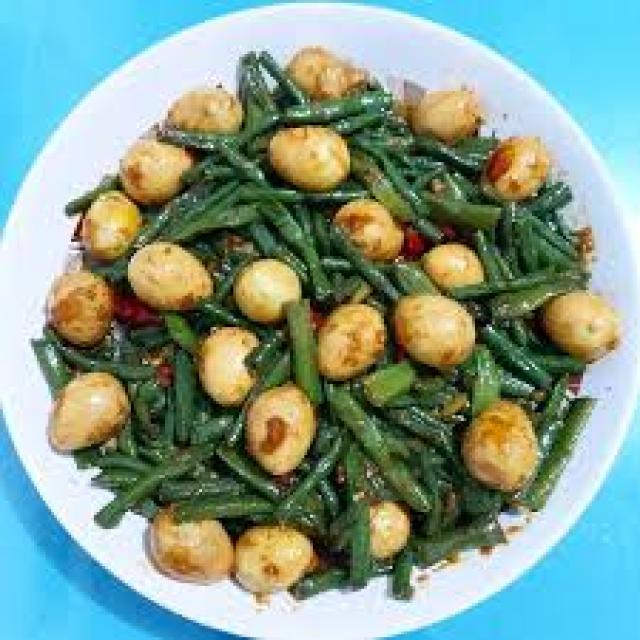kacang_panjang: (51, 48, 600, 595)
